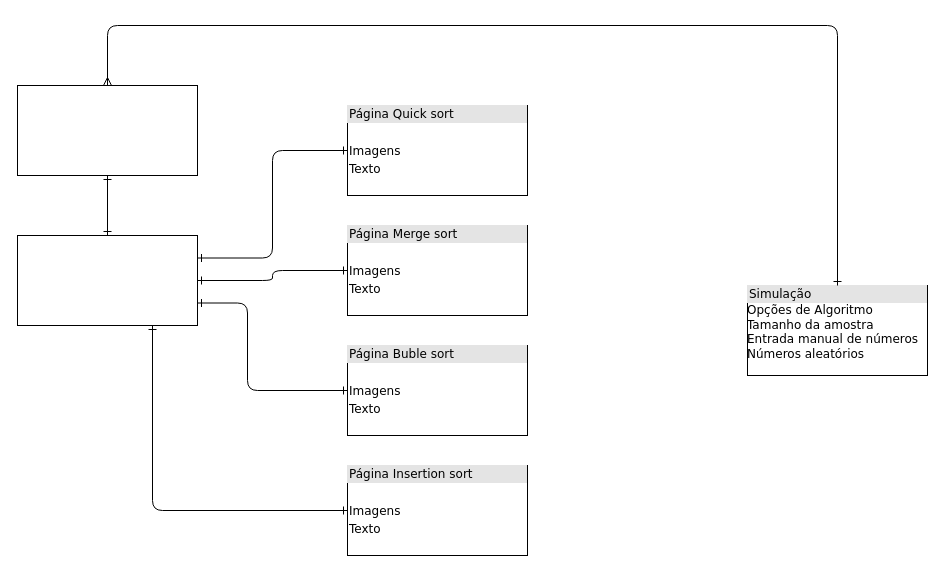
This 945x573 diagram has some shape labels left out. The box of each missing label's shape, as (x1, y1, x2, y2) in pixels:
Página Inicial Informações Gerais: (16, 234, 198, 326)
Usuário Login Senha: (16, 84, 198, 176)
